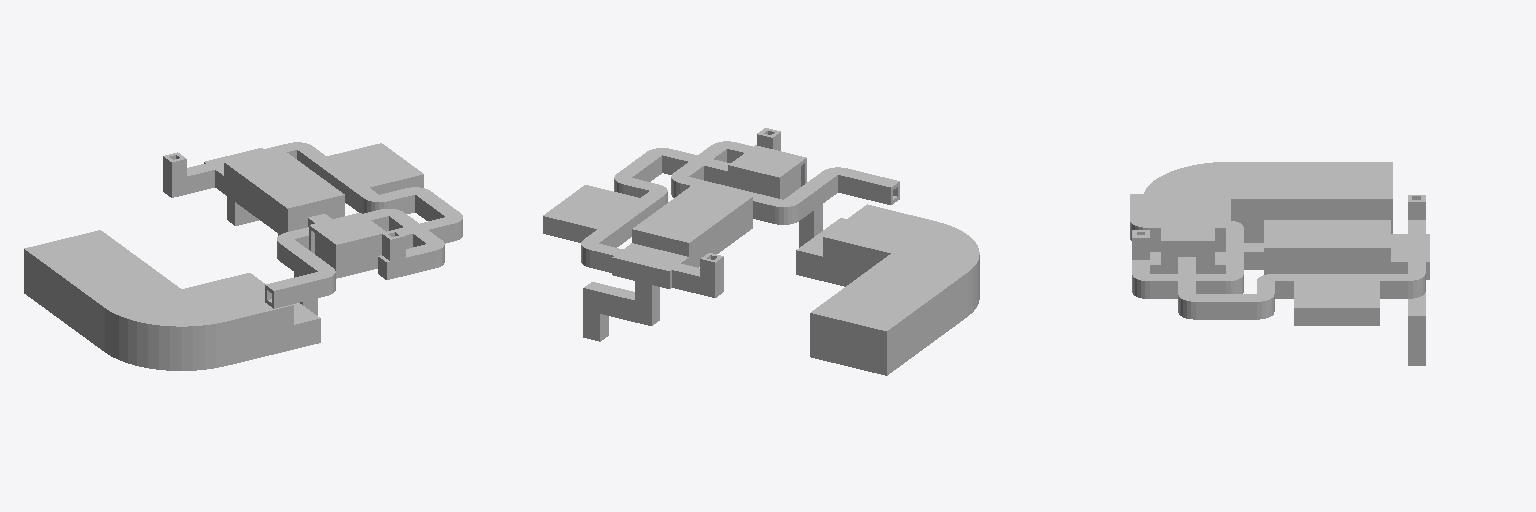
The model's file is maze.obj.
The picture shows the model from 3 angles: view 1: azimuth 30°, elevation 25°; view 2: azimuth 150°, elevation 25°; view 3: azimuth 270°, elevation 25°; orthographic projection.
Visible parts, largest first — view 1: Cube; view 2: Cube; view 3: Cube.
Part boxes in pixels (left/top/right/bottom): Cube: left=24, top=142, right=462, bottom=370; Cube: left=543, top=128, right=979, bottom=375; Cube: left=1130, top=162, right=1429, bottom=365.
Bounding box in the file's own units: 185 × 56 × 137.